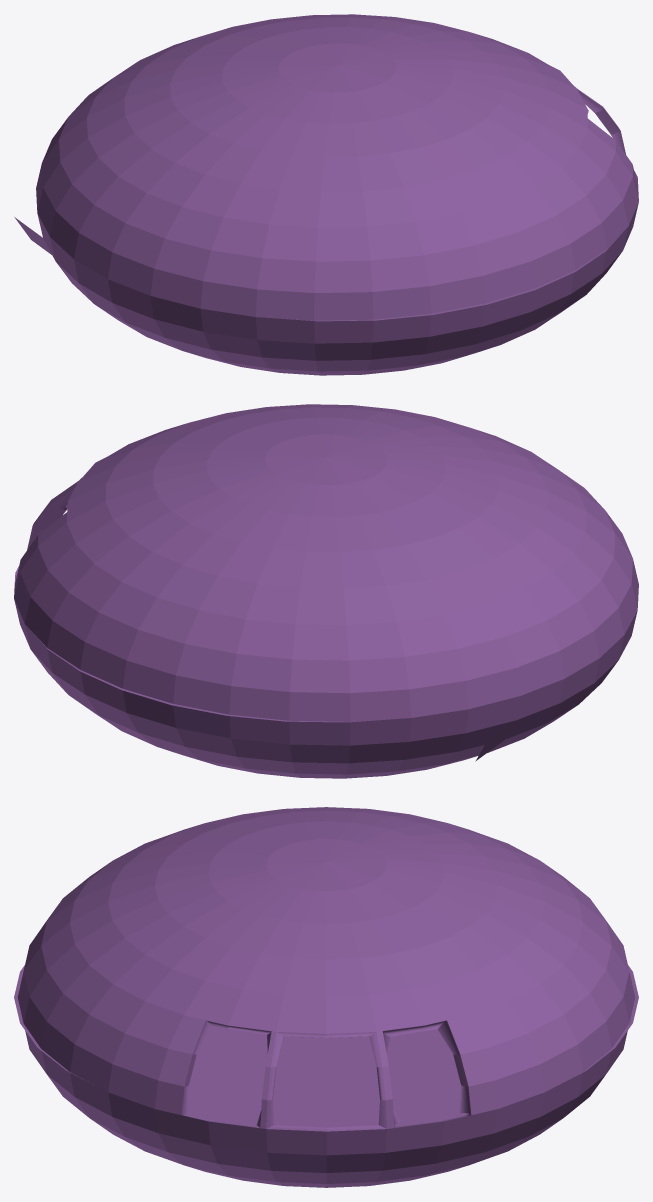
The model's file is QGV2.glb.
3 views of the same model, one above another, from view 1: azimuth 30°, elevation 25°; view 2: azimuth 150°, elevation 25°; view 3: azimuth 270°, elevation 25° (orthographic). The views are drawn at different scales.
Visible parts, largest first — view 1: Sphère, Cercle; view 2: Sphère, Cercle; view 3: Sphère, Cercle.
Boxes of the visible parts, <box> form: Sphère: <box>14,14,638,375</box>; Cercle: <box>282,236,619,321</box>; Sphère: <box>14,404,638,778</box>; Cercle: <box>34,634,389,722</box>; Sphère: <box>17,807,635,1187</box>; Cercle: <box>14,965,638,1127</box>.
Bounding box in the file's own units: 5.45 × 2.56 × 5.36.
